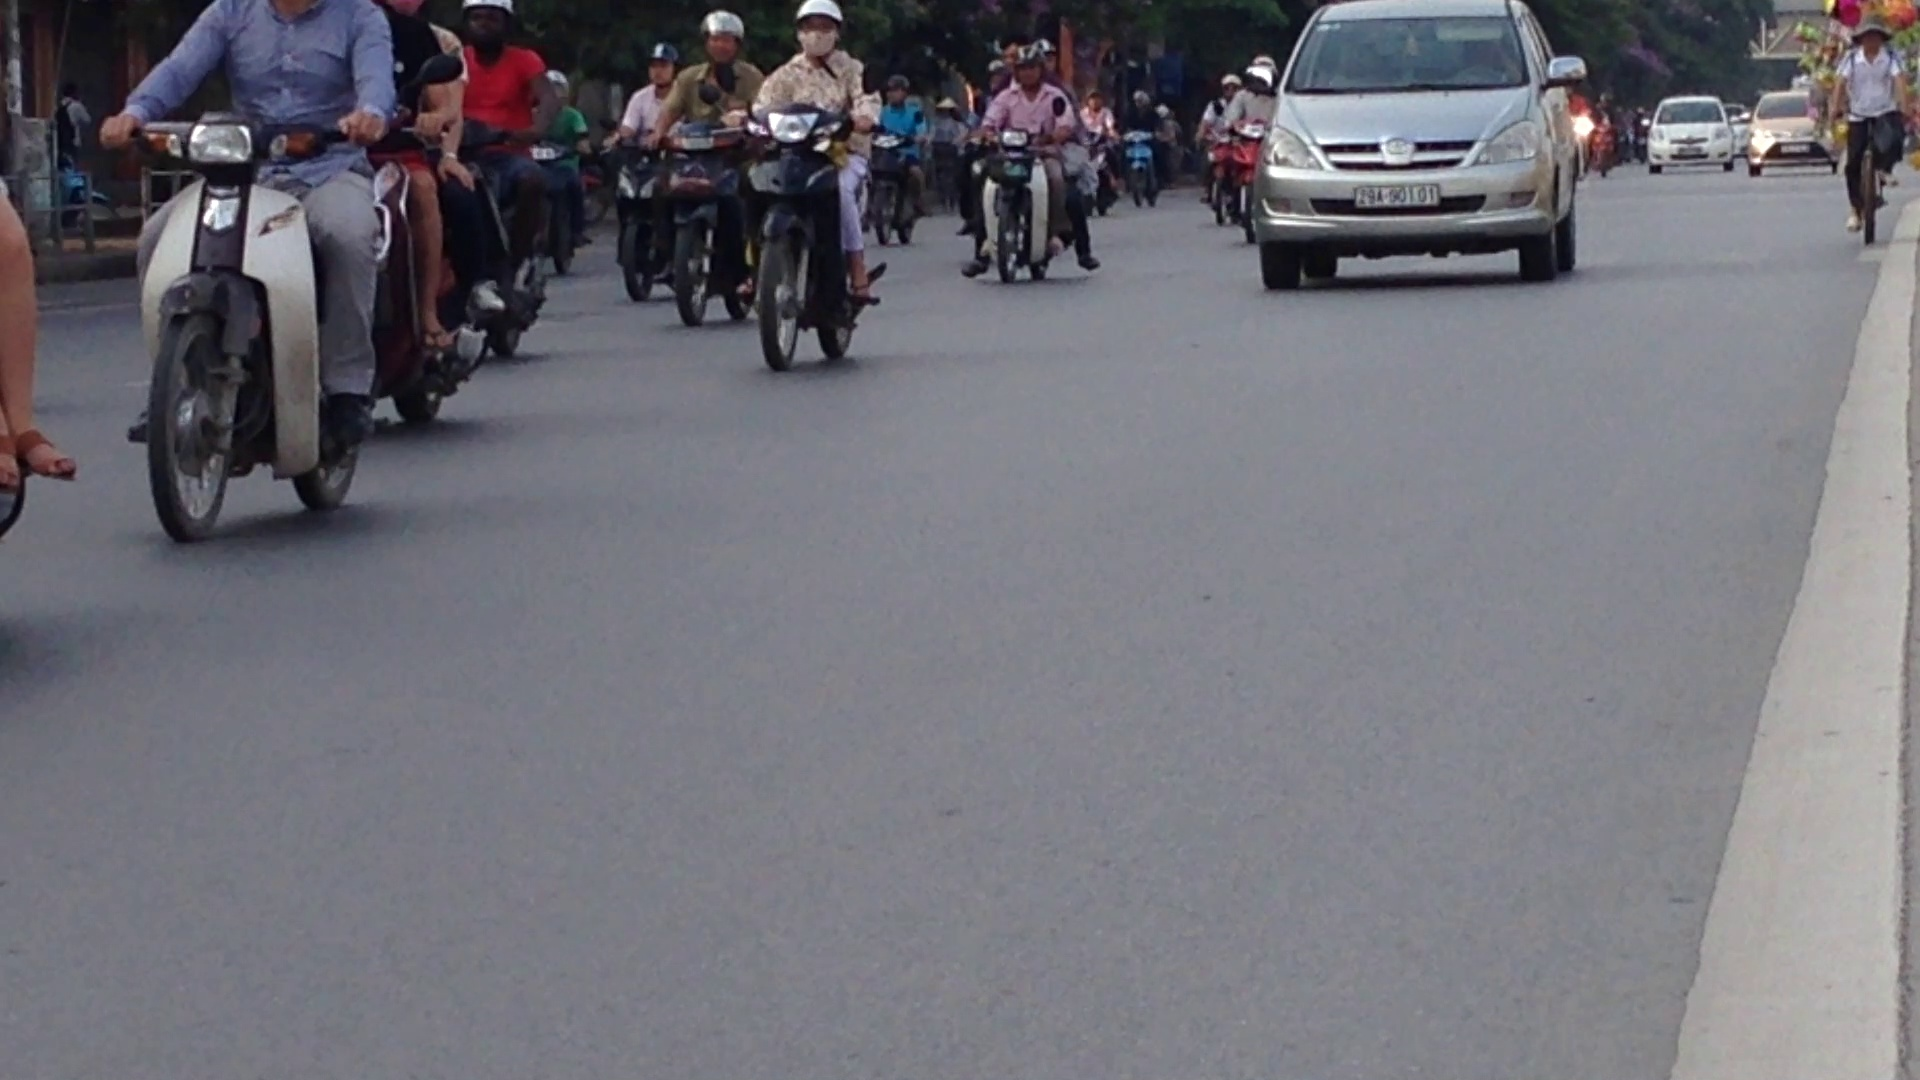person: (1346, 176, 1447, 212)
